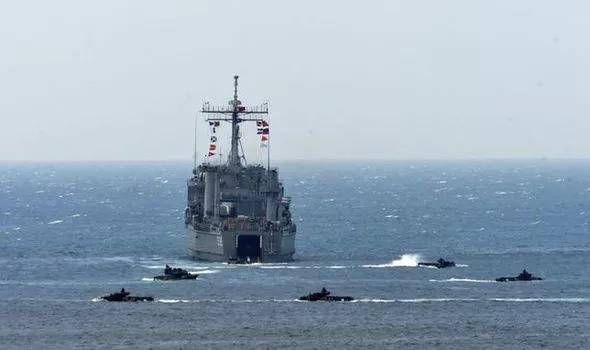MIL_Ship: (182, 97, 306, 264)
